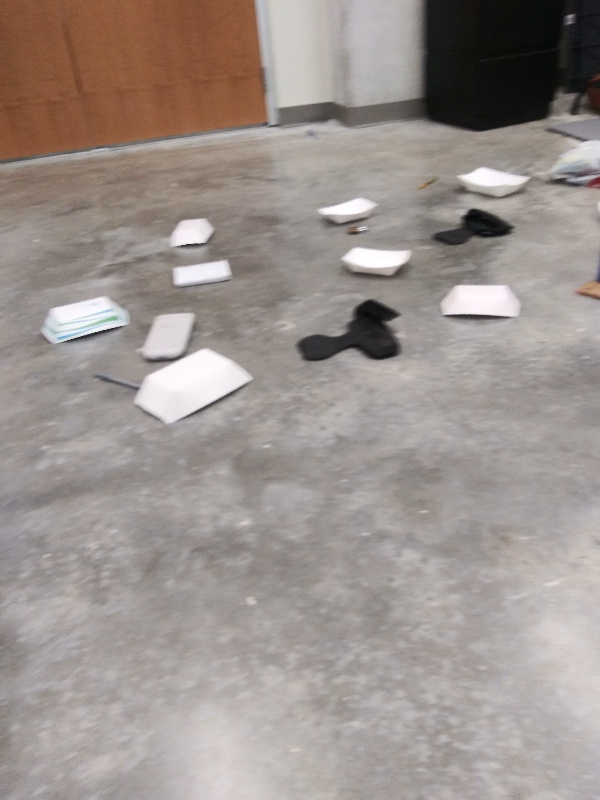plate: (132, 346, 257, 425), (38, 292, 131, 350), (439, 282, 527, 323), (338, 240, 419, 282), (452, 160, 537, 197), (314, 192, 383, 229), (167, 214, 221, 249)
